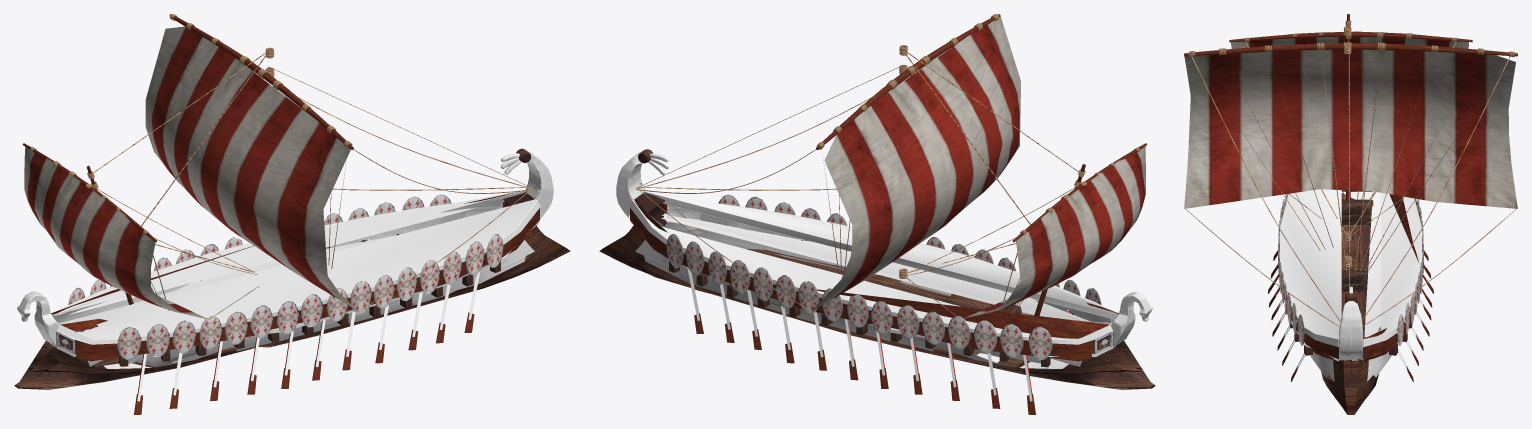
Rendered from liburna.glb.
3 views of the same model, side by side, from view 1: azimuth 30°, elevation 25°; view 2: azimuth 150°, elevation 25°; view 3: azimuth 270°, elevation 25° (orthographic). The views are drawn at different scales.
Parts seen in each view (by area): view 1: Object_4, Object_20, Object_9, Object_17, Object_19, Object_7, Object_5, Object_11, Object_18, Object_15, Object_6, Object_14 (+2 smaller); view 2: Object_4, Object_20, Object_9, Object_19, Object_17, Object_7, Object_11, Object_5, Object_18, Object_3, Object_15, Object_6 (+2 smaller); view 3: Object_4, Object_20, Object_11, Object_18, Object_19, Object_17, Object_9, Object_15, Object_3, Object_6, Object_14, Object_7 (+1 smaller).
Boxes of the visible parts, x1=… form: Object_4: x1=24, y1=26, x2=357, y2=319; Object_20: x1=51, y1=153, x2=540, y2=401; Object_9: x1=68, y1=194, x2=503, y2=359; Object_17: x1=14, y1=148, x2=570, y2=389; Object_19: x1=43, y1=191, x2=539, y2=414; Object_7: x1=36, y1=184, x2=551, y2=366; Object_5: x1=17, y1=216, x2=501, y2=367; Object_11: x1=93, y1=50, x2=534, y2=319; Object_18: x1=23, y1=14, x2=353, y2=304; Object_15: x1=119, y1=261, x2=500, y2=366; Object_6: x1=36, y1=152, x2=553, y2=362; Object_14: x1=30, y1=14, x2=352, y2=235; Object_4: x1=812, y1=16, x2=1145, y2=318; Object_20: x1=629, y1=153, x2=1118, y2=401; Object_9: x1=666, y1=194, x2=1101, y2=359; Object_19: x1=630, y1=192, x2=1126, y2=414; Object_17: x1=599, y1=149, x2=1155, y2=389; Object_7: x1=622, y1=183, x2=1133, y2=366; Object_11: x1=636, y1=51, x2=1078, y2=319; Object_5: x1=668, y1=221, x2=1152, y2=366; Object_18: x1=816, y1=14, x2=1146, y2=315; Object_3: x1=746, y1=249, x2=1016, y2=360; Object_15: x1=669, y1=261, x2=1050, y2=367; Object_6: x1=616, y1=152, x2=1140, y2=362; Object_4: x1=1184, y1=31, x2=1517, y2=208; Object_20: x1=1273, y1=189, x2=1428, y2=371; Object_11: x1=1185, y1=23, x2=1516, y2=326; Object_18: x1=1184, y1=14, x2=1517, y2=199; Object_19: x1=1268, y1=194, x2=1433, y2=381; Object_17: x1=1321, y1=190, x2=1378, y2=414; Object_9: x1=1278, y1=194, x2=1423, y2=345; Object_15: x1=1284, y1=199, x2=1417, y2=355; Object_3: x1=1341, y1=193, x2=1380, y2=337; Object_6: x1=1339, y1=301, x2=1362, y2=361; Object_14: x1=1189, y1=20, x2=1514, y2=267; Object_7: x1=1310, y1=330, x2=1391, y2=381.
Bounding box in the file's own units: 16.85 × 8.82 × 9.6.
Materials: 11 (10 with a texture image).
